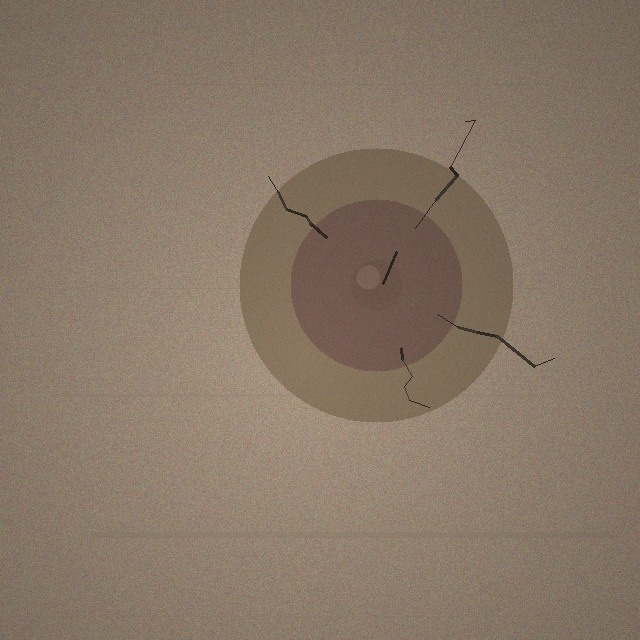crack: (239, 148, 513, 422)
